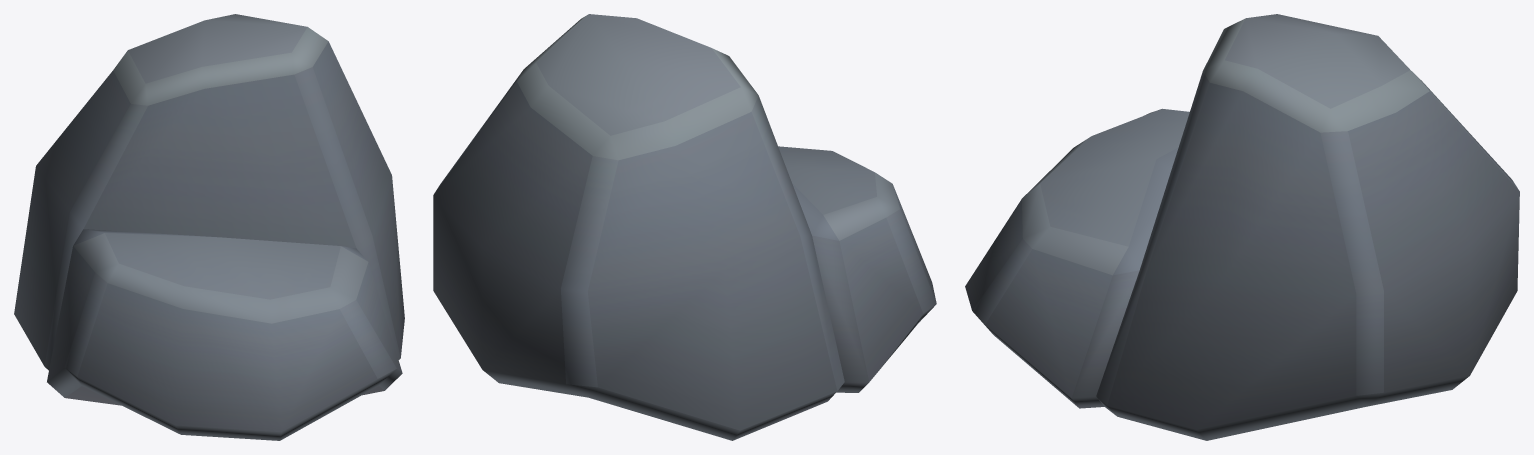
File: rock_05.fbx
The picture shows the model from 3 angles, left to right: view 1: azimuth 30°, elevation 25°; view 2: azimuth 150°, elevation 25°; view 3: azimuth 270°, elevation 25°; orthographic projection. The views are drawn at different scales.
Parts seen in each view (by area): view 1: rock_05; view 2: rock_05; view 3: rock_05.
Part boxes in pixels (<box>): rock_05: <box>14,14,404,440</box>; rock_05: <box>433,14,936,440</box>; rock_05: <box>965,14,1519,440</box>.
Size of the model in its own units: 121 by 101 by 137.
